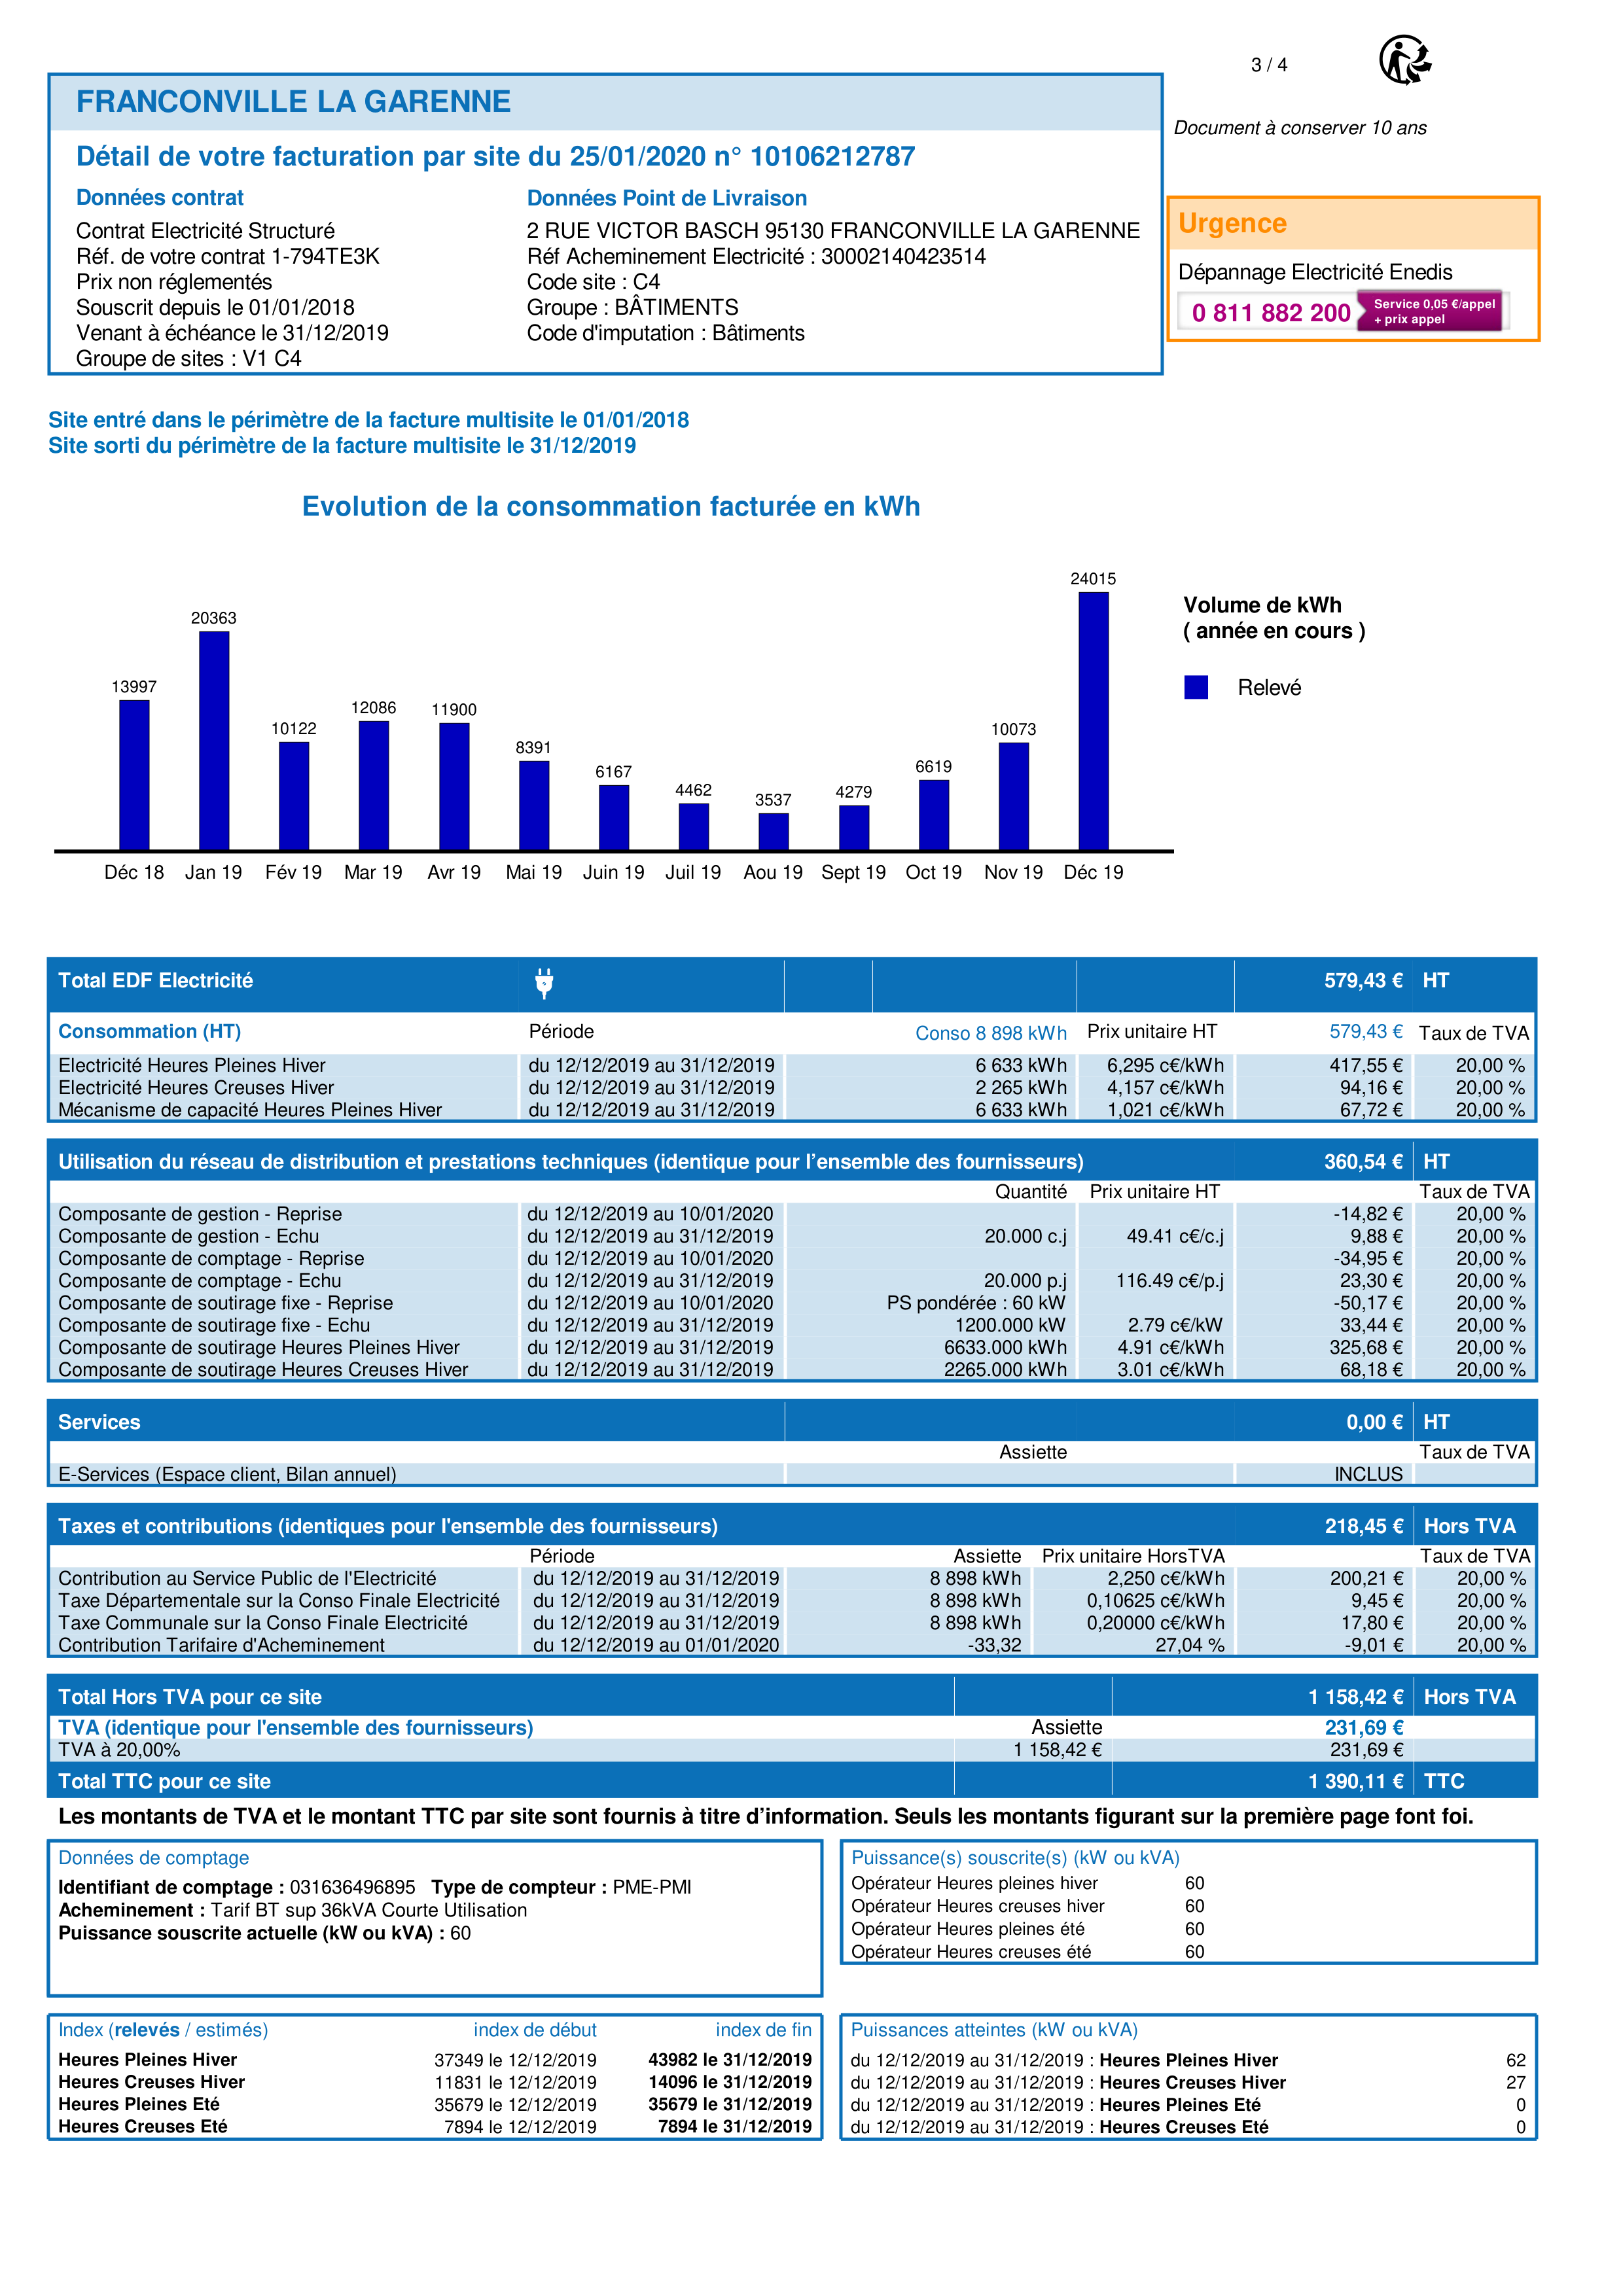area: (47, 2015, 819, 2136)
type_indicator: (47, 2013, 277, 2045)
